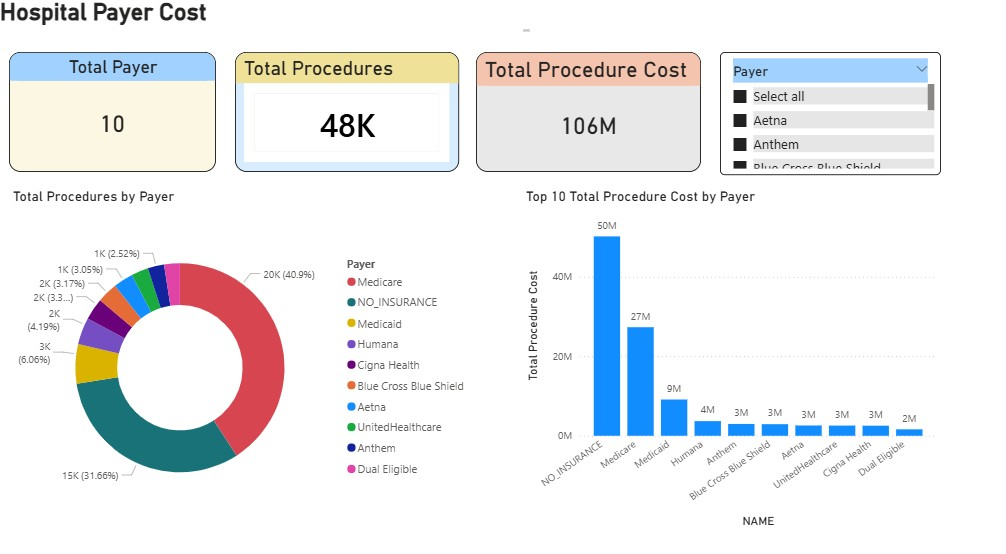

What the dashboard file says about the page in this screenshot:
{"tool":"powerbi","page":{"name":"Hospital Payer ","canvas":[1280,720],"ordinal":3},"visuals":[{"type":"card","title":"Total Payer","fields":{"Values":["payers.Total Payer"]},"box":[16.2,86,251.8,145.8],"z":0},{"type":"card","title":"Total Procedure Cost","fields":{"Values":["procedures.Total Procedure Cost"]},"box":[584.5,86,274.2,145.8],"z":1000},{"type":"cardVisual","title":"Total  Procedures","fields":{"Data":["procedures.Total Procedures"]},"box":[291.6,86,273,145.8],"z":2000},{"type":"donutChart","title":"Total Procedures by Payer","fields":{"Category":["payers.NAME"],"Y":["procedures.Total Procedures"]},"box":[16.2,251.8,568.3,418.8],"z":3000},{"type":"clusteredColumnChart","title":"Top 10 Total Procedure Cost by Payer","fields":{"Category":["payers.NAME"],"Y":["procedures.Total Procedure Cost"]},"box":[640.6,251.8,509.8,418.8],"z":4000},{"type":"textbox","title":"Hospital Payer Cost","box":[0,21.1,655.5,45.6],"z":5000},{"type":"slicer","fields":{"Values":["payers.NAME"]},"box":[881.2,86,269.2,149.6],"z":6000}]}

Visuals, with their boxes in screenshot pixels (x1, y1, x2, y2), scaled from the page's 1280x720 canvas onto the 1006x554 screenshot:
"Total Payer" card: crop(13, 66, 211, 178)
"Total Procedure Cost" card: crop(459, 66, 675, 178)
"Total  Procedures" cardVisual: crop(229, 66, 444, 178)
"Total Procedures by Payer" donutChart: crop(13, 194, 459, 516)
"Top 10 Total Procedure Cost by Payer" clusteredColumnChart: crop(503, 194, 904, 516)
"Hospital Payer Cost" textbox: crop(0, 16, 515, 51)
slicer - payers.NAME: crop(693, 66, 904, 181)
